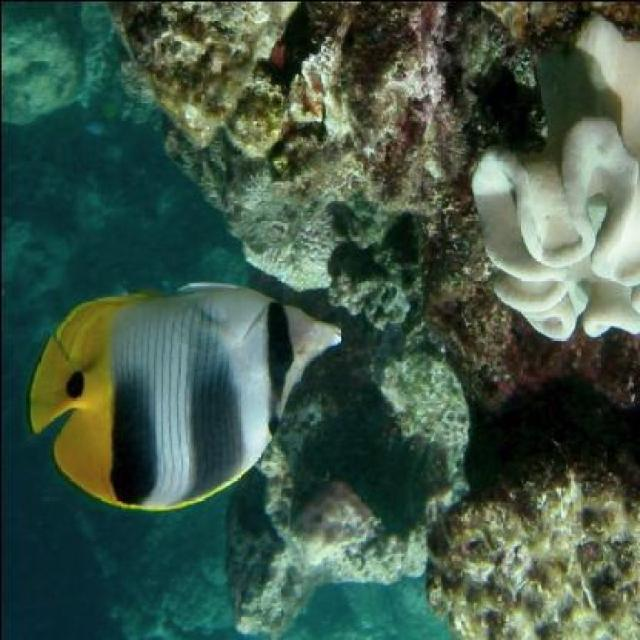ButterflyFish: (28, 281, 342, 514)
